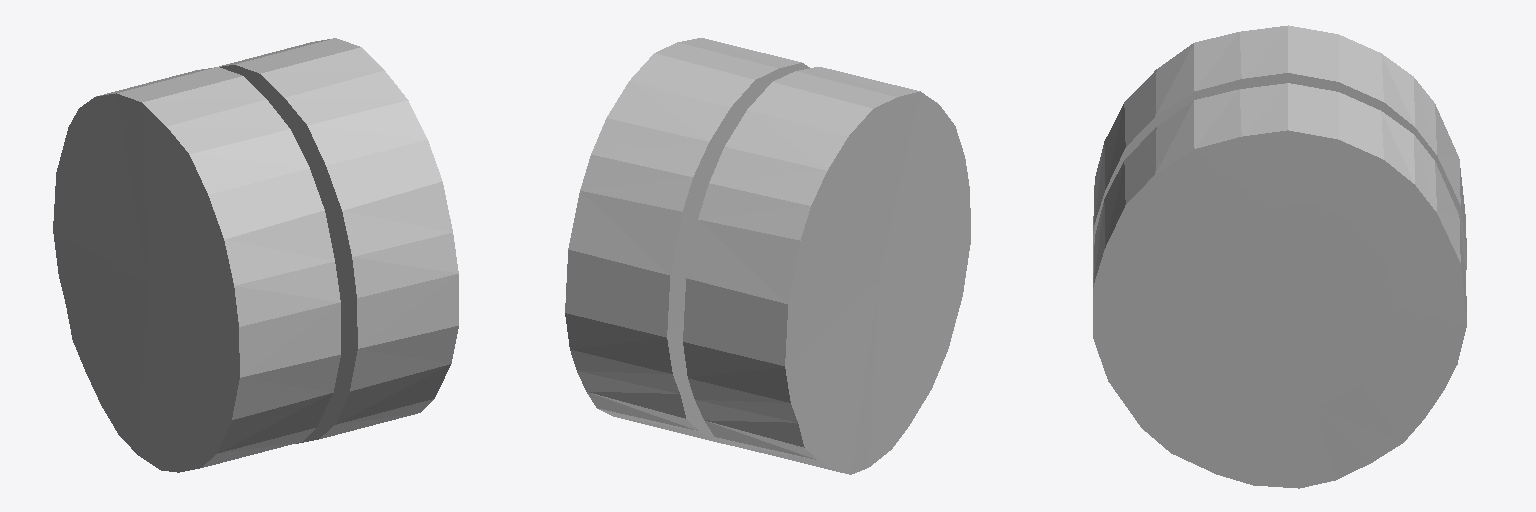
File: wheel3.obj
The picture shows the model from 3 angles: view 1: azimuth 30°, elevation 25°; view 2: azimuth 150°, elevation 25°; view 3: azimuth 270°, elevation 25°; orthographic projection.
Bounding box in the file's own units: 12.5 × 19.44 × 18.42.